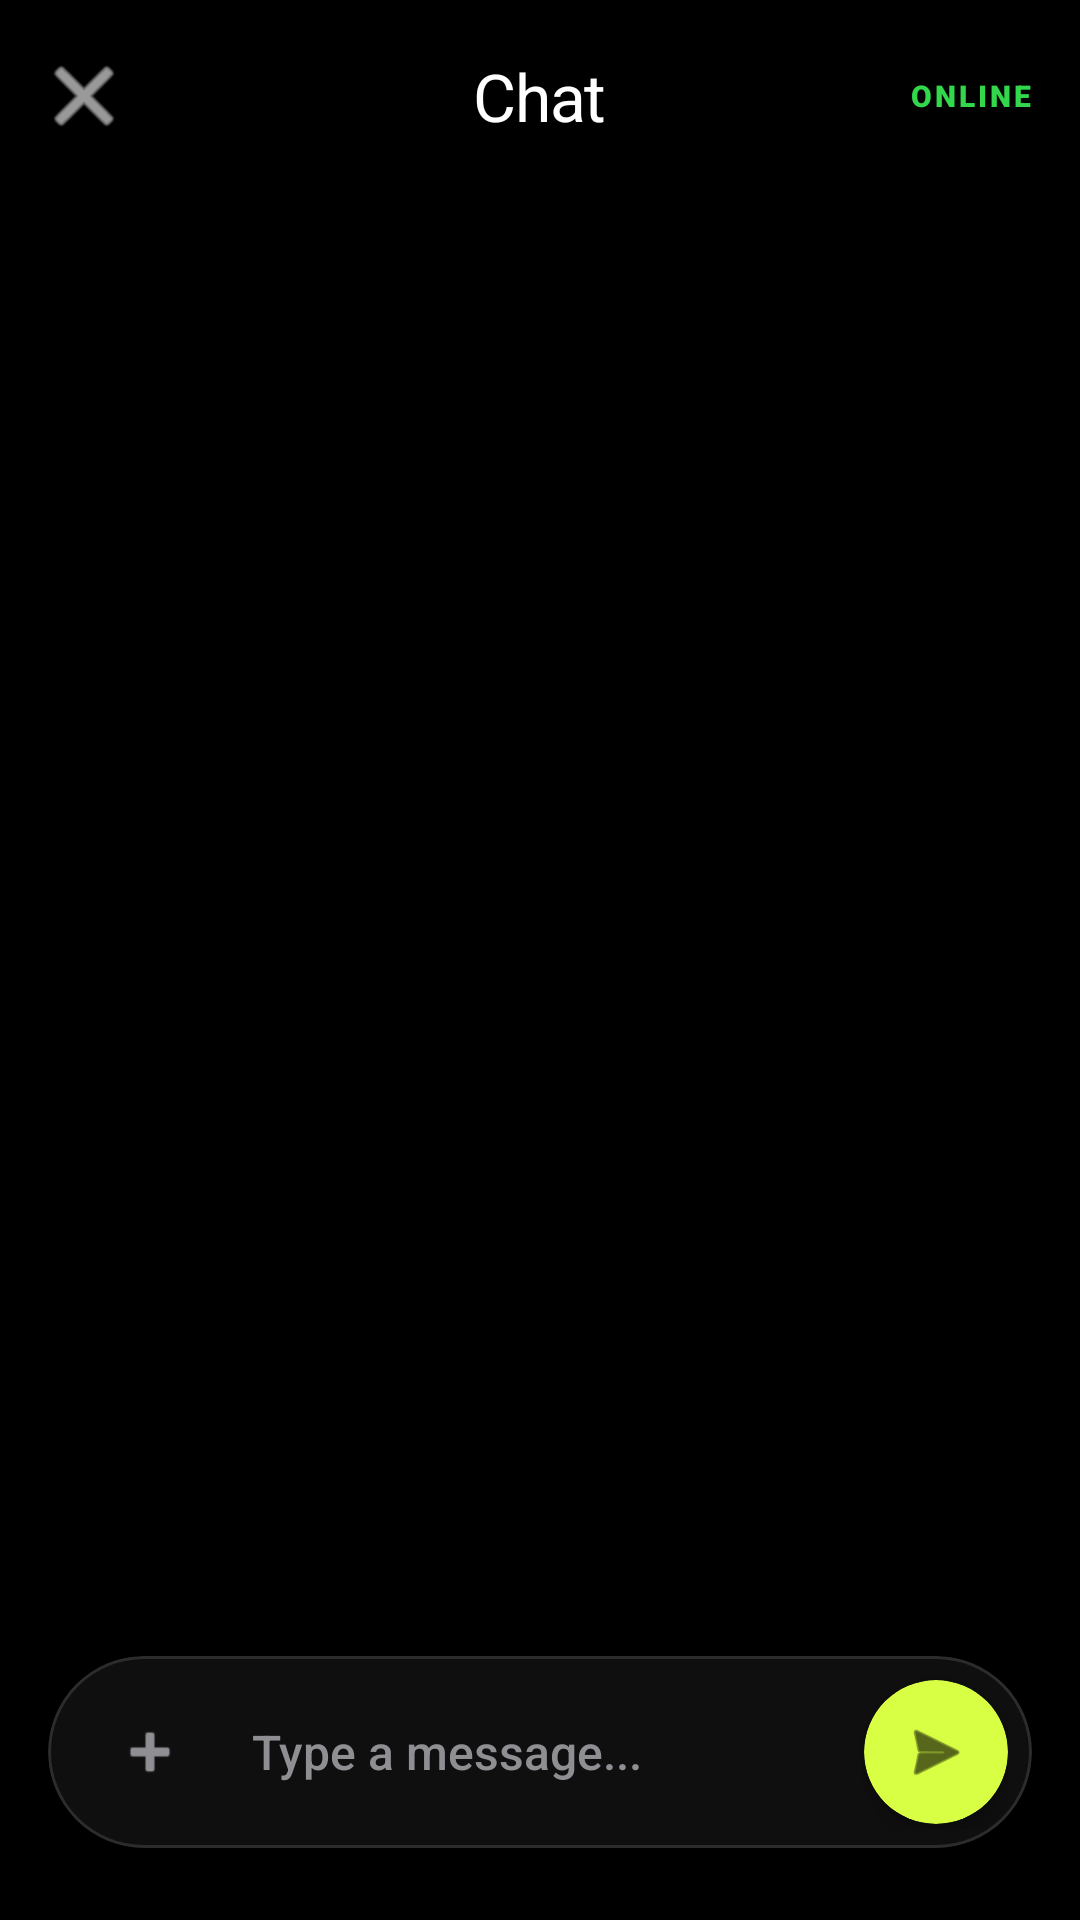

Named icons in this screenshot (1080x1920) and their bounding boxes, (x1, y1, x2, y2):
Add Attachment: (130, 1732, 170, 1772)
Send Message: (864, 1680, 1008, 1824)
